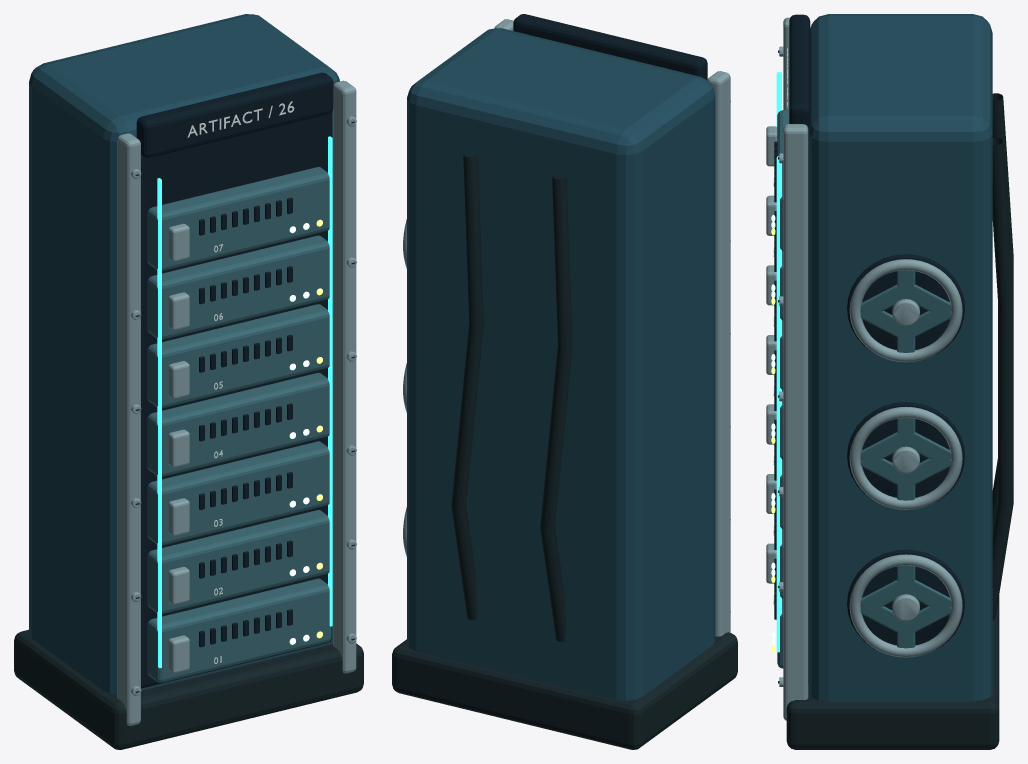
File: SM_ServerRack.fbx
3 views of the same model, side by side, from view 1: azimuth 30°, elevation 25°; view 2: azimuth 150°, elevation 25°; view 3: azimuth 270°, elevation 25° (orthographic). The views are drawn at different scales.
Parts seen in each view (by area): view 1: SM_ServerRack; view 2: SM_ServerRack; view 3: SM_ServerRack.
Part boxes in pixels (left/top/right/bottom): SM_ServerRack: left=14, top=14, right=363, bottom=749; SM_ServerRack: left=392, top=14, right=737, bottom=749; SM_ServerRack: left=766, top=14, right=1013, bottom=749.
Bounding box in the file's own units: 116 × 94.24 × 265.
